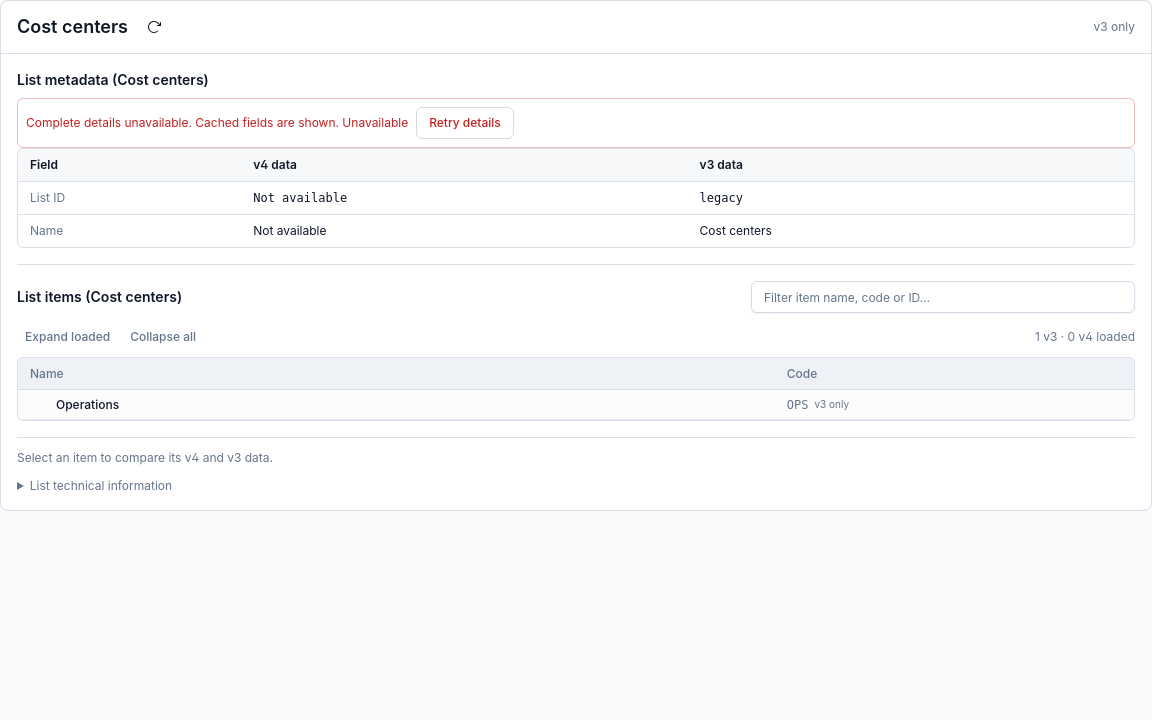
ListsWorkspace › keeps cached fields and supports retrying a failed v3 detail request
Expected: the message shows "Cached fields are shown", [26,115,342,130]
What coordinates should you click on to do the following:
click the button "Retry details"
I would click on:
 (465, 123)
Its box is [416,107,514,139].
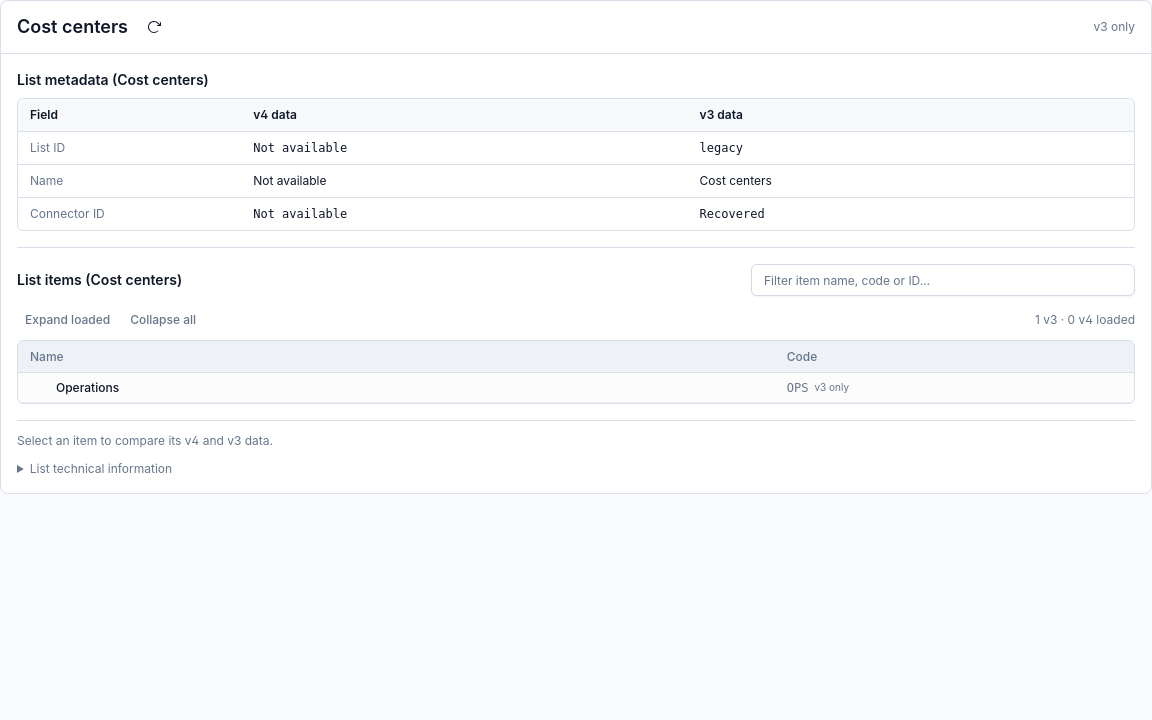
Expected: the text "Recovered" is shown, [688,198,1134,230]
